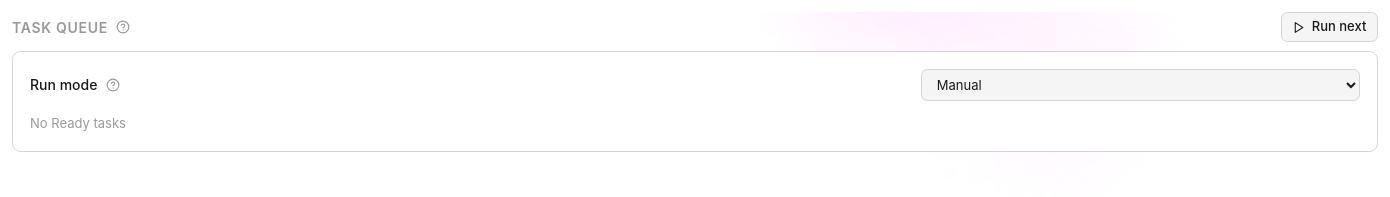
Test: AgentTasksTab › saves the run mode and shows main’s refusal last in the card
This screenshot has width=1390, height=197.
Select "One at a time" in the dropdown labelled "Run mode" at (1141,85), box [921,68,1360,101]
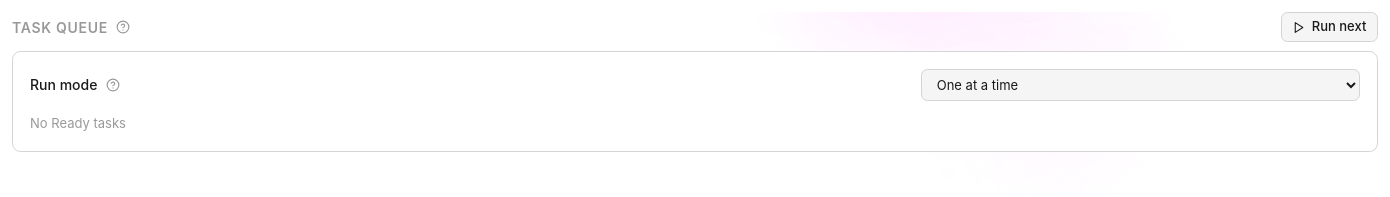
Select "Manual" in the dropdown labelled "Run mode" at (1141,85), box [921,68,1360,101]
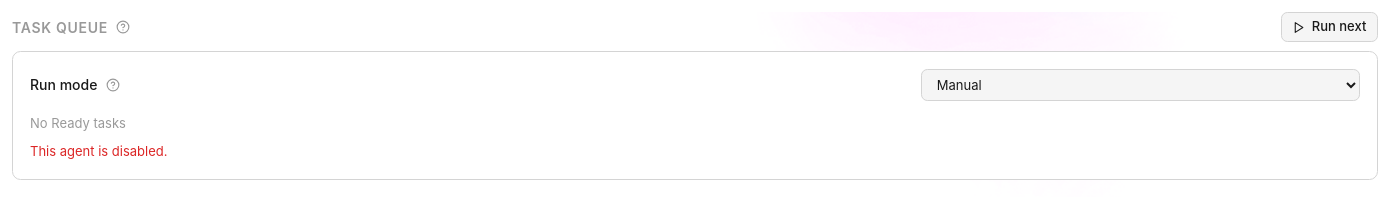
Check: the message reads "This agent is disabled.", box [30,143,168,159]
